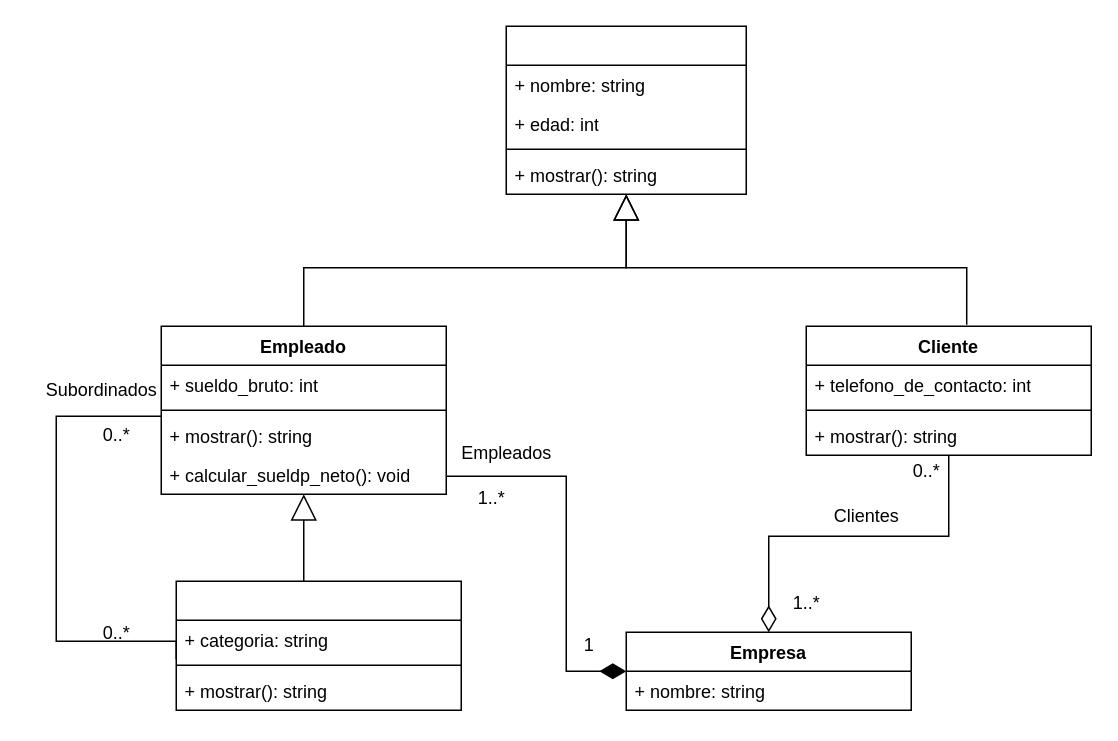
Image size: 1118x741. Some labels were removed from this diagram. Here are the shapes that lost their labels. From the top down, the box of each, then its label:
(505, 25, 746, 194): Persona
(175, 580, 461, 710): Directivo
